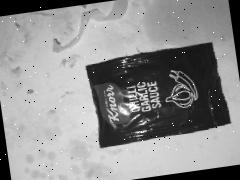general: (84, 41, 232, 148)
